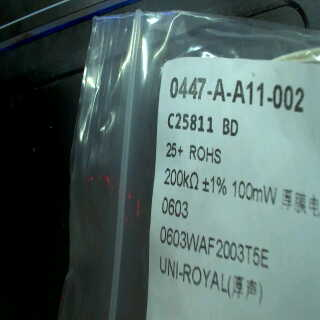200kR: (163, 166, 202, 190)
